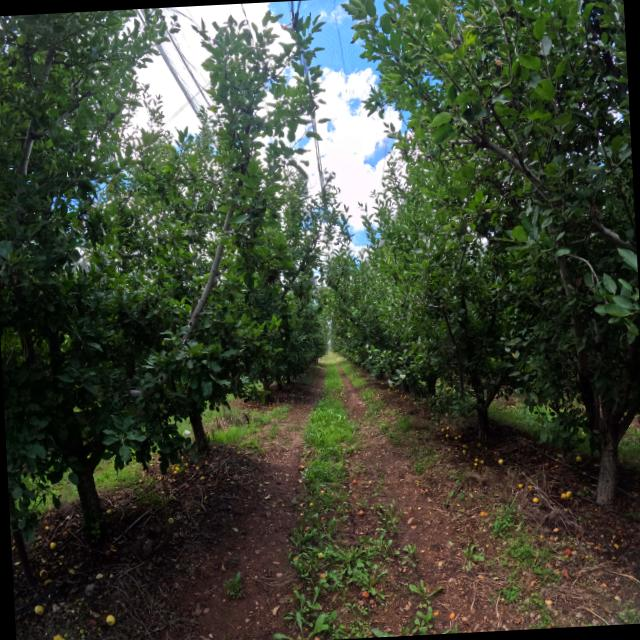-FireBlight-: (582, 197, 605, 233)
